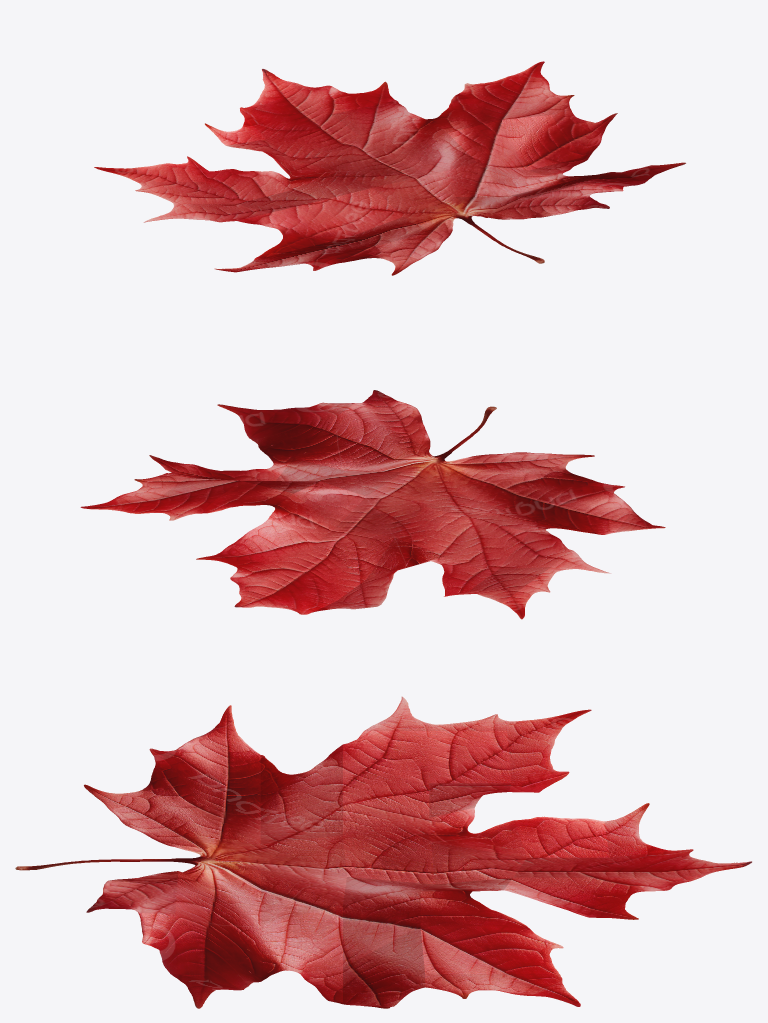
The model's file is mapleLeaf2.obj.
3 views of the same model, one above another, from view 1: azimuth 30°, elevation 25°; view 2: azimuth 150°, elevation 25°; view 3: azimuth 270°, elevation 25° (orthographic). The views are drawn at different scales.
Visible parts, largest first — view 1: Plane.001; view 2: Plane.001; view 3: Plane.001.
Boxes of the visible parts, x1=… form: Plane.001: x1=94, y1=61, x2=685, y2=275; Plane.001: x1=80, y1=390, x2=665, y2=619; Plane.001: x1=15, y1=696, x2=751, y2=1008.
Bounding box in the file's own units: 0.1 × 0.00725 × 0.1.
